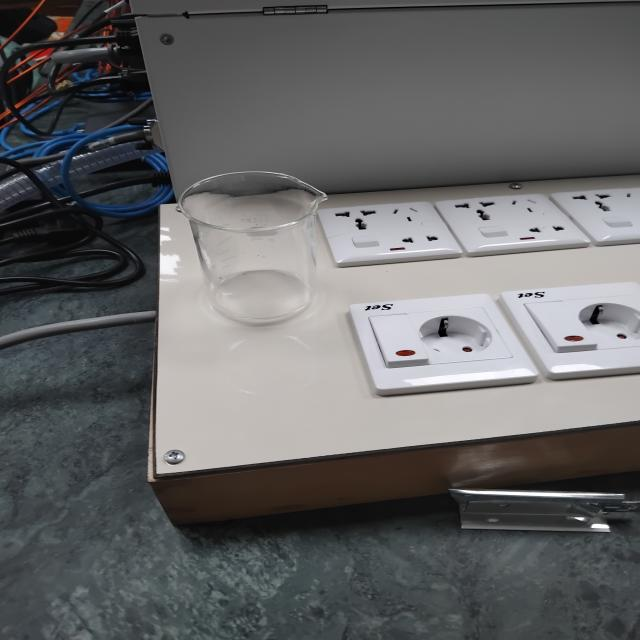Beaker: (157, 146, 335, 331)
